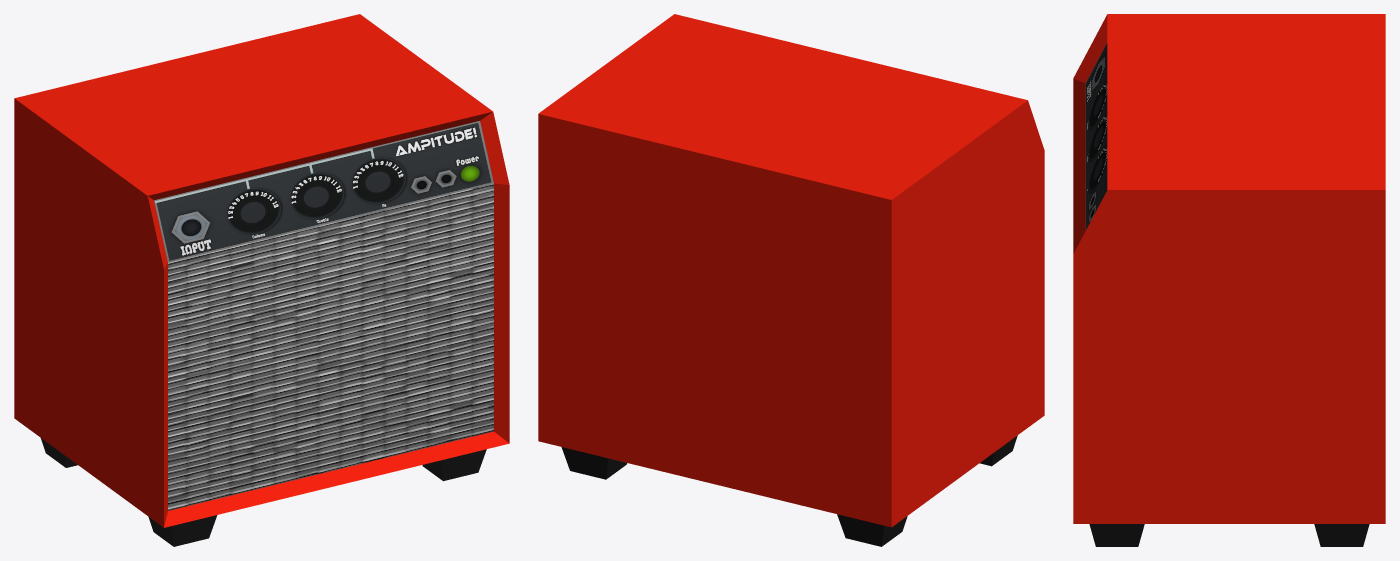
The model's file is Amp_C.FBX.
3 views of the same model, side by side, from view 1: azimuth 30°, elevation 25°; view 2: azimuth 150°, elevation 25°; view 3: azimuth 270°, elevation 25° (orthographic). The views are drawn at different scales.
Visible parts, largest first — view 1: Amp; view 2: Amp; view 3: Amp.
Part boxes in pixels (x1,y1,x2,y2): Amp: [14, 14, 509, 546]; Amp: [538, 14, 1044, 546]; Amp: [1073, 14, 1385, 546].
Size of the model in its own units: 55.04 by 53.57 by 41.28.
